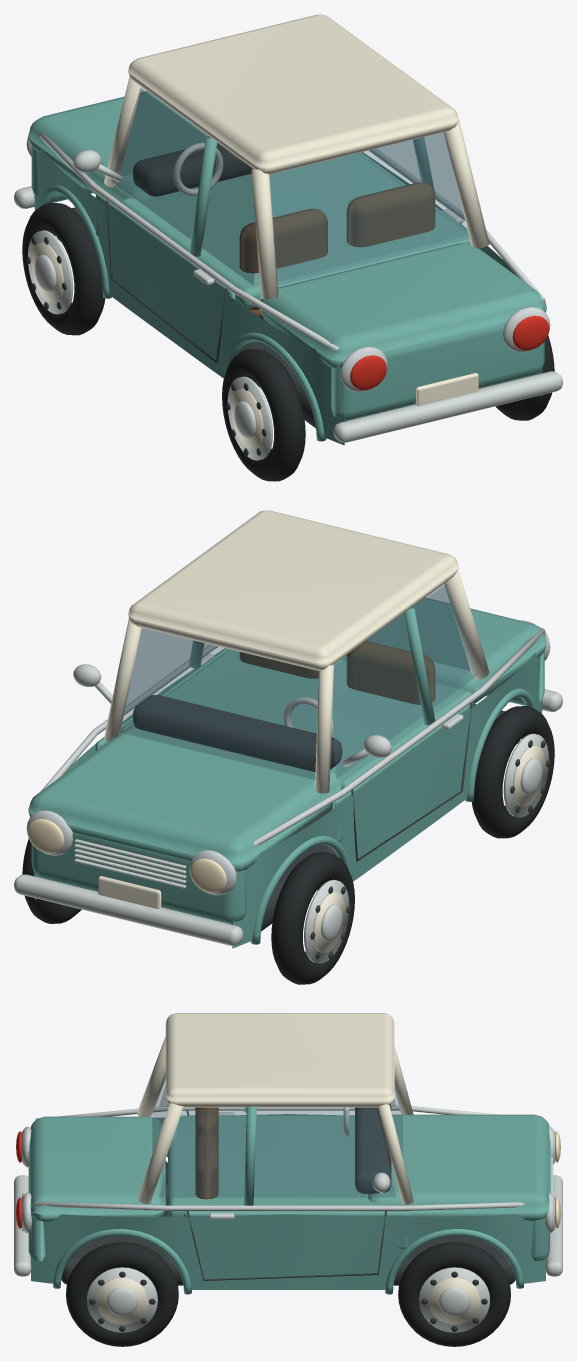
File: island_car.glb
The picture shows the model from 3 angles, top to bottom: view 1: azimuth 30°, elevation 25°; view 2: azimuth 150°, elevation 25°; view 3: azimuth 270°, elevation 25°; orthographic projection. The views are drawn at different scales.
Visible parts, largest first — view 1: IslandCar_Geometry, WheelRL_Geometry, WheelFL_Geometry, WheelRR_Geometry; view 2: IslandCar_Geometry, WheelFL_Geometry, WheelRL_Geometry, WheelFR_Geometry; view 3: IslandCar_Geometry, WheelFR_Geometry, WheelRR_Geometry.
Part boxes in pixels (left/top/right/bottom): IslandCar_Geometry: left=14, top=14, right=562, bottom=445; WheelRL_Geometry: left=222, top=349, right=305, bottom=481; WheelFL_Geometry: left=22, top=203, right=105, bottom=335; WheelRR_Geometry: left=495, top=335, right=554, bottom=420; IslandCar_Geometry: left=14, top=510, right=562, bottom=948; WheelFL_Geometry: left=271, top=852, right=354, bottom=984; WheelRL_Geometry: left=472, top=706, right=554, bottom=838; WheelFR_Geometry: left=22, top=838, right=81, bottom=923; IslandCar_Geometry: left=14, top=1013, right=562, bottom=1294; WheelFR_Geometry: left=398, top=1242, right=510, bottom=1346; WheelRR_Geometry: left=66, top=1242, right=178, bottom=1346.
Size of the model in its own units: 1.83 by 1.62 by 3.31.
